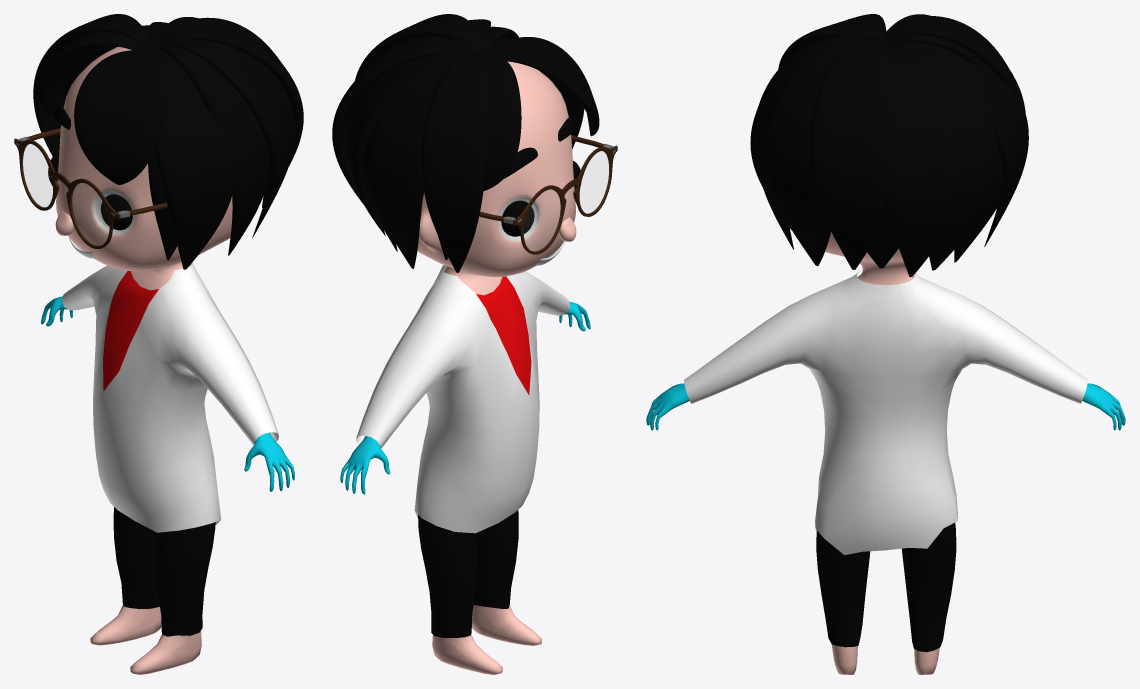
Rendered from Character.fbx.
3 views of the same model, side by side, from view 1: azimuth 30°, elevation 25°; view 2: azimuth 150°, elevation 25°; view 3: azimuth 270°, elevation 25° (orthographic). The views are drawn at different scales.
Visible parts, largest first — view 1: p3.004; view 2: p3.004; view 3: p3.004.
Boxes of the visible parts, bbox=[...] form: p3.004: bbox=[14, 14, 303, 674]; p3.004: bbox=[332, 14, 617, 674]; p3.004: bbox=[646, 14, 1125, 674].
Size of the model in its own units: 3.37 by 4.99 by 1.89.
